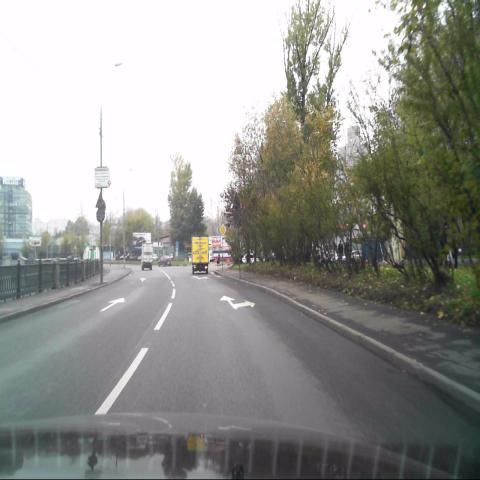2_1: (219, 223, 226, 236)
